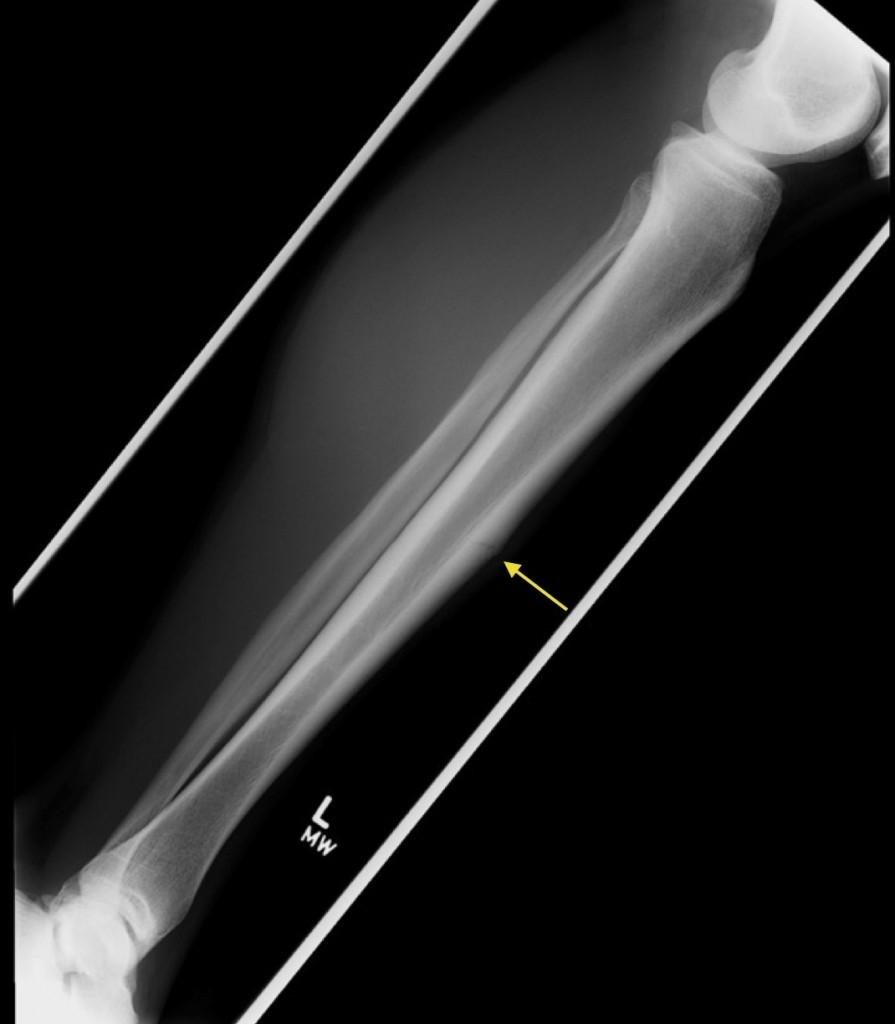fractured: (463, 526, 506, 564)
